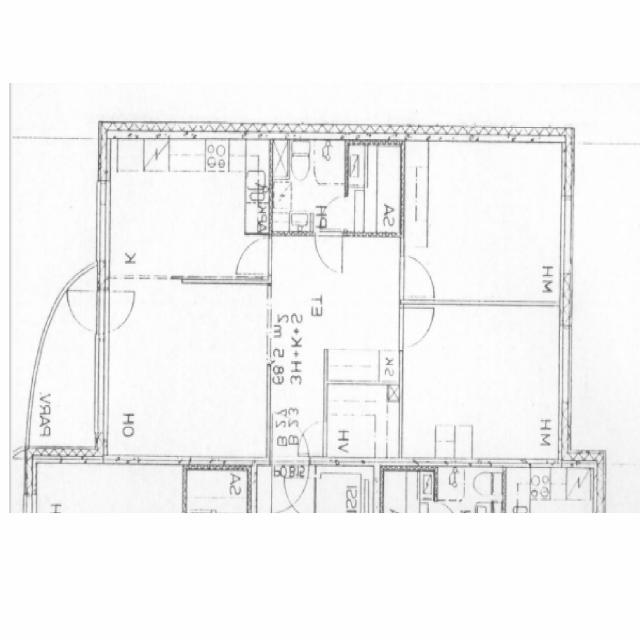door: (274, 413, 309, 468), (274, 458, 309, 512), (68, 292, 111, 332), (99, 292, 142, 332), (399, 256, 435, 298), (399, 308, 435, 348), (315, 232, 343, 272), (241, 239, 272, 275), (297, 423, 327, 457), (319, 197, 348, 229)
